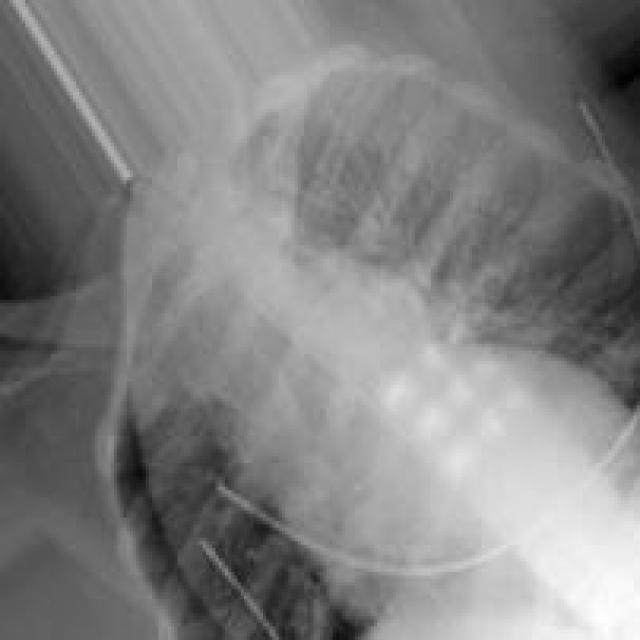coronavirus: (0, 0, 640, 640), (2, 0, 640, 640)
